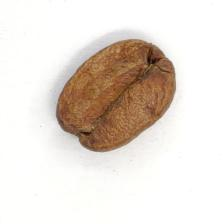NG: (77, 47, 157, 137)
